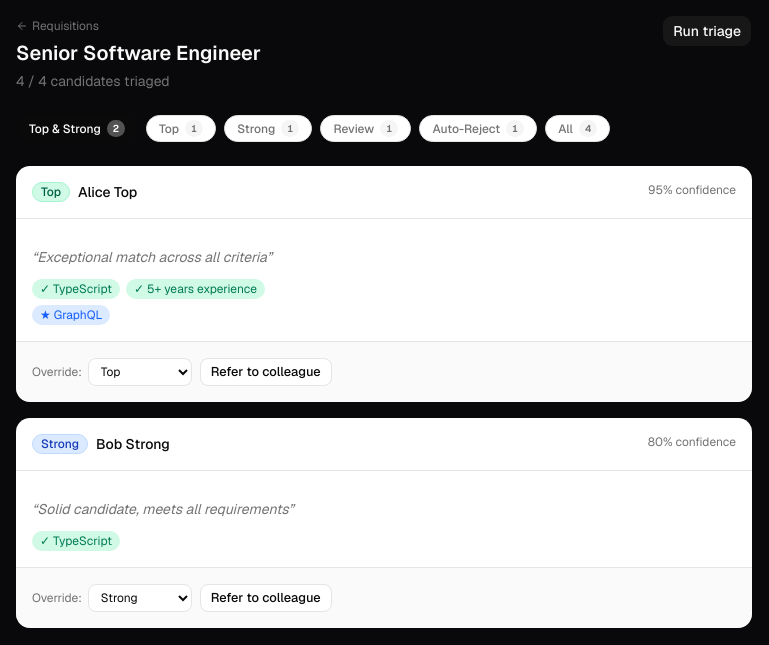
Test: rendering › clicking Auto-Reject filter shows auto-rejected candidates
This screenshot has width=769, height=645.
Step 1. Click the button named "Auto-Reject1" → {"x": 478, "y": 129}, box [419, 115, 537, 142]
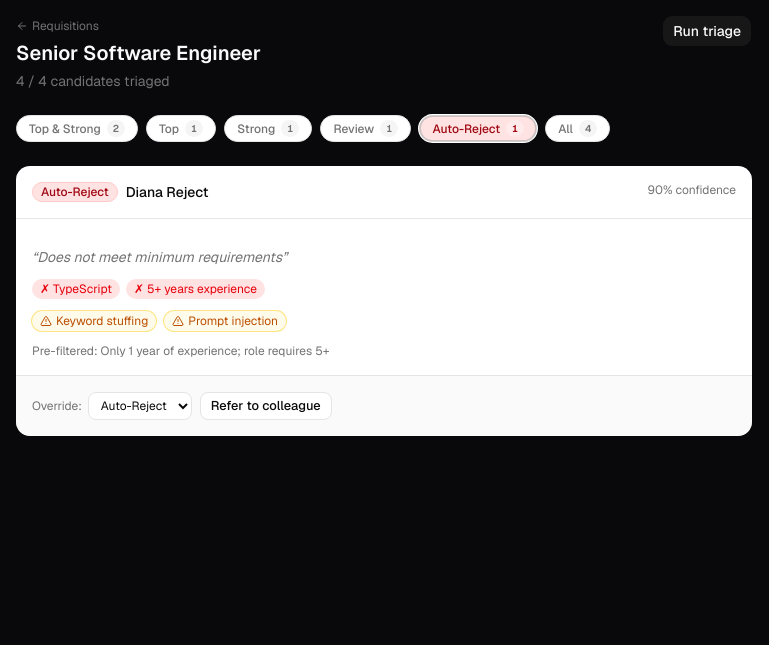
Result: the text "Diana Reject" is shown at [126, 182, 208, 202]
Result: the text "Alice Top" is gone
